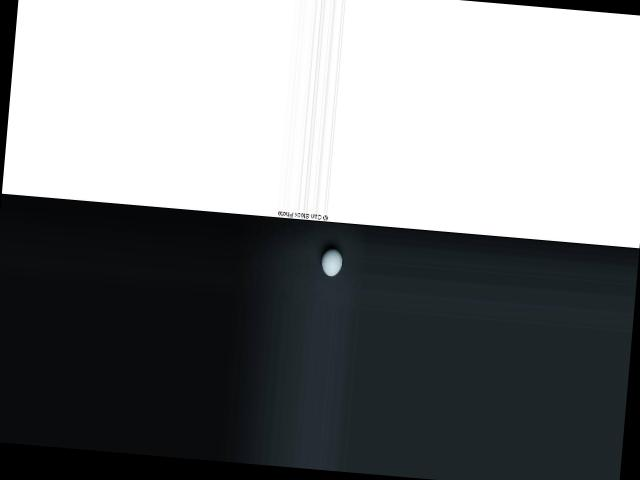egg: (320, 247, 343, 277)
